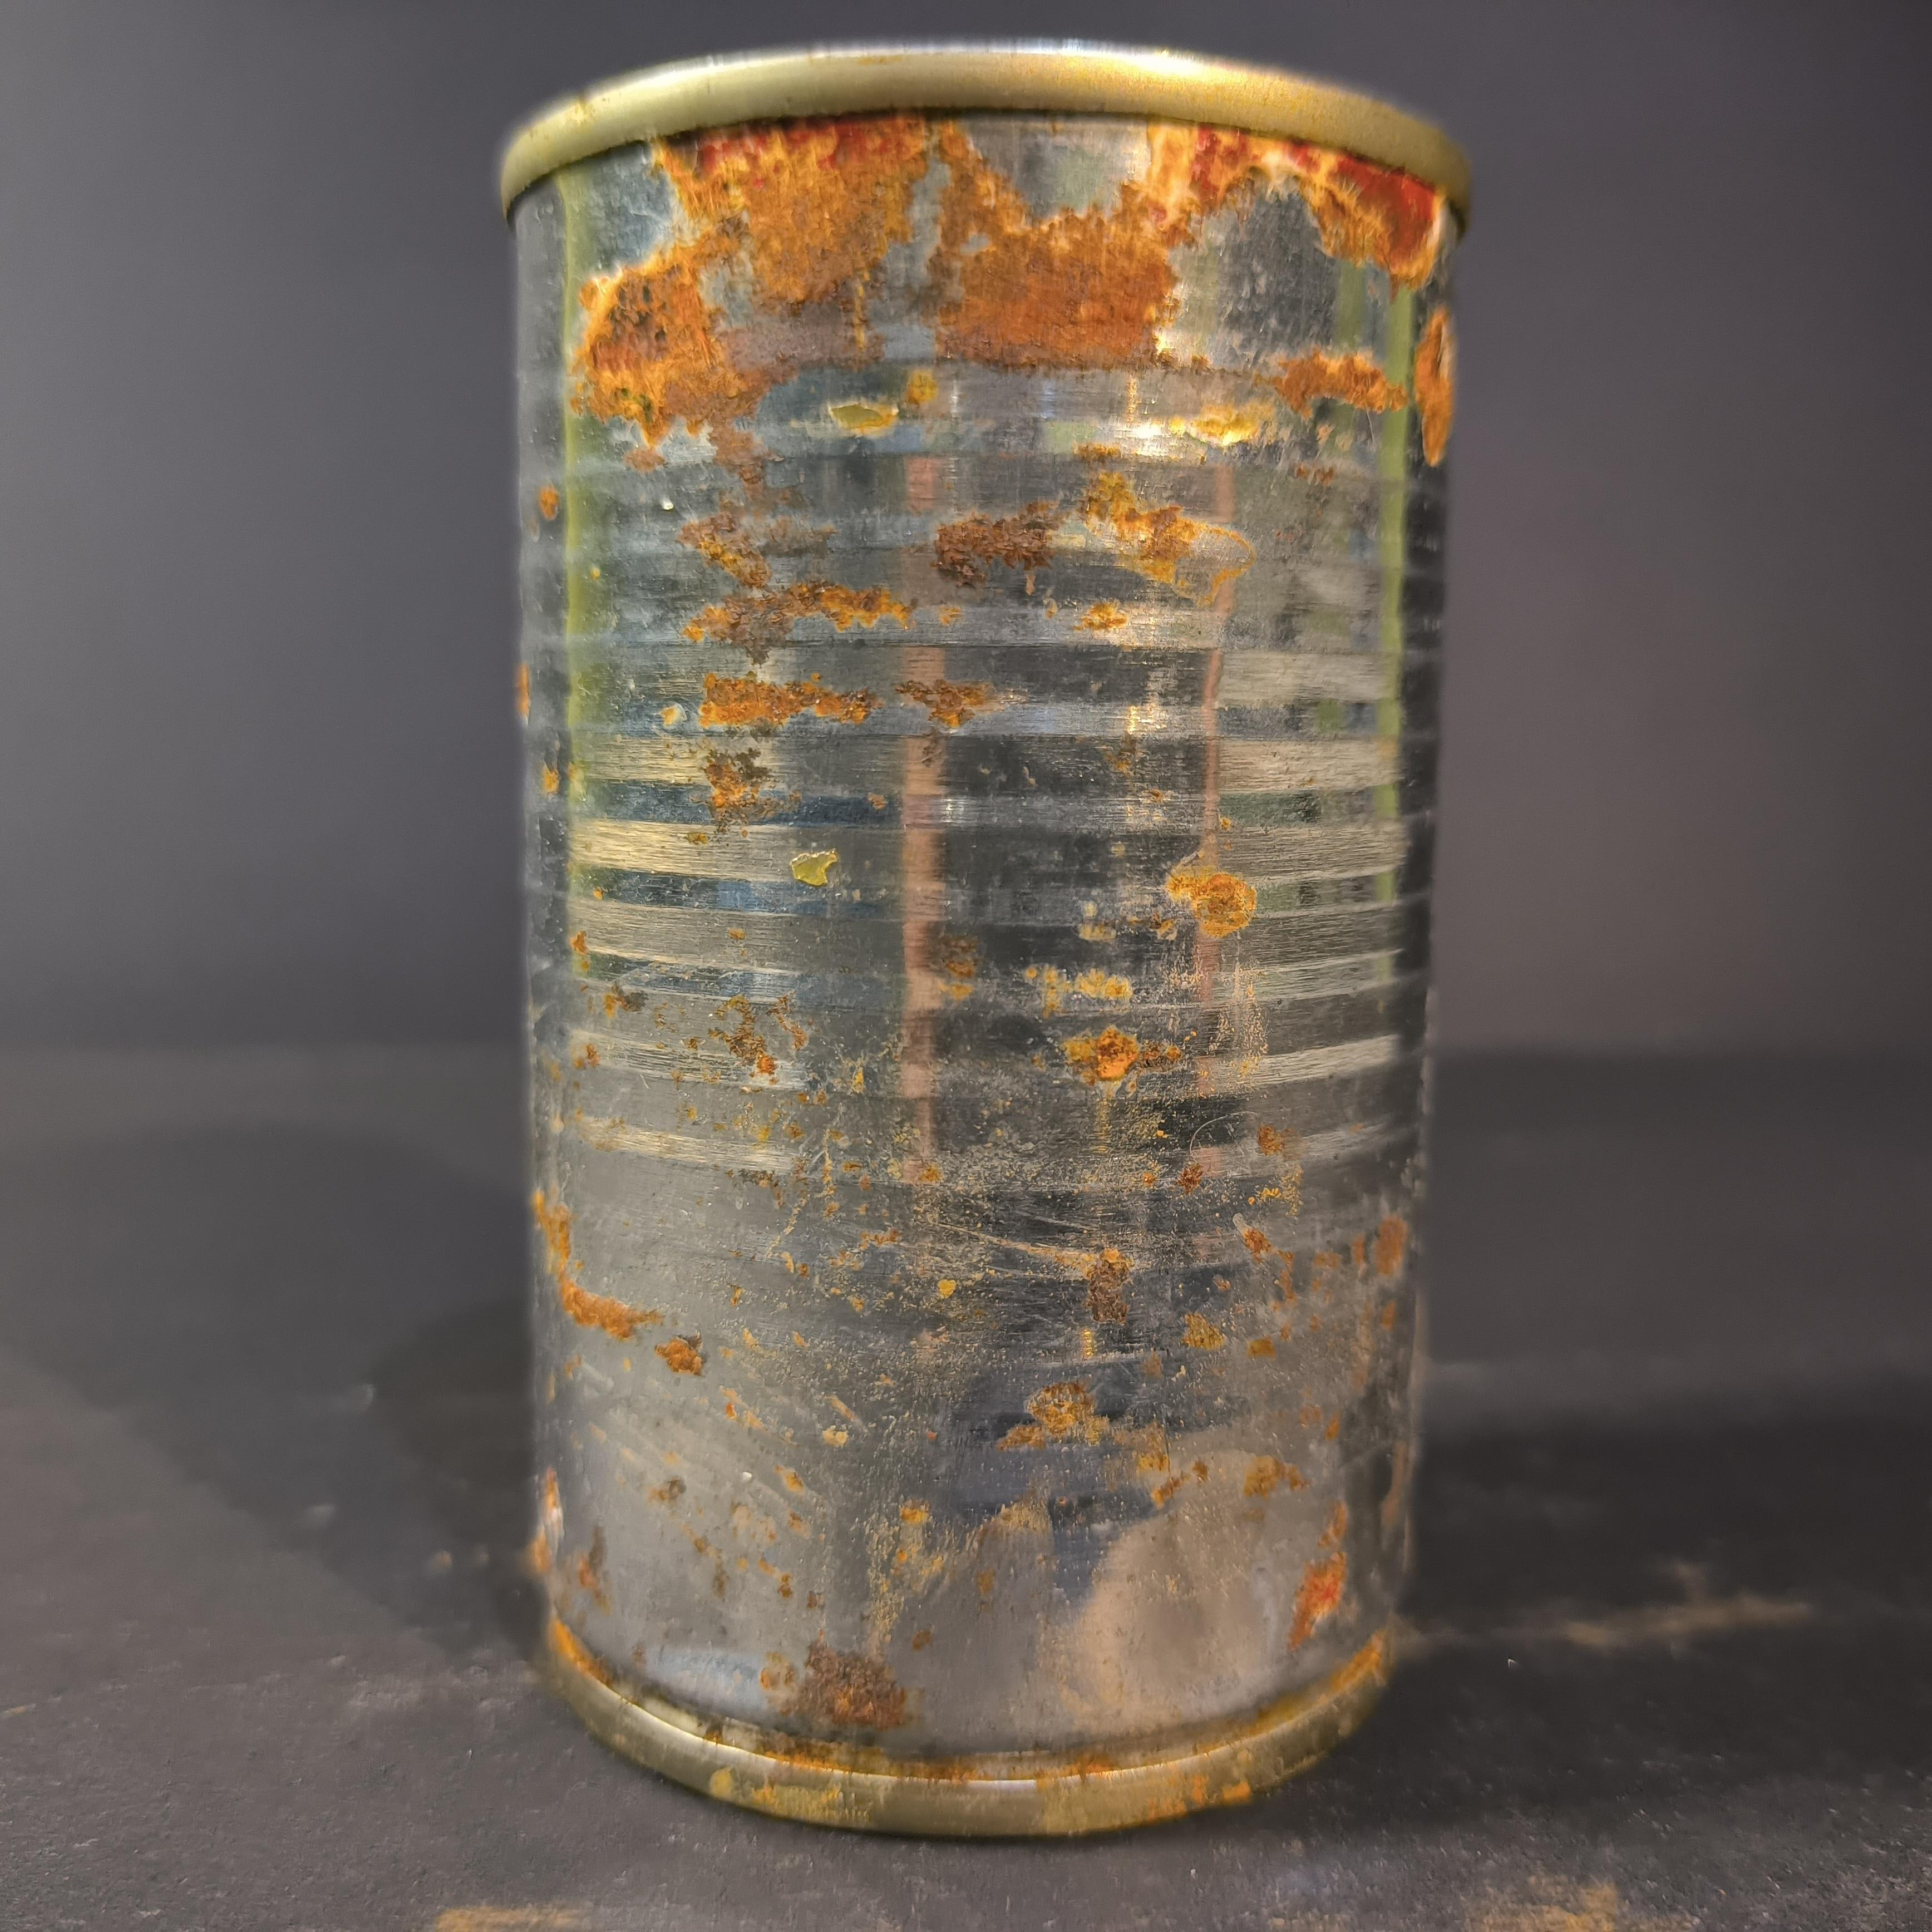Rusted: (481, 16, 1474, 1861)
